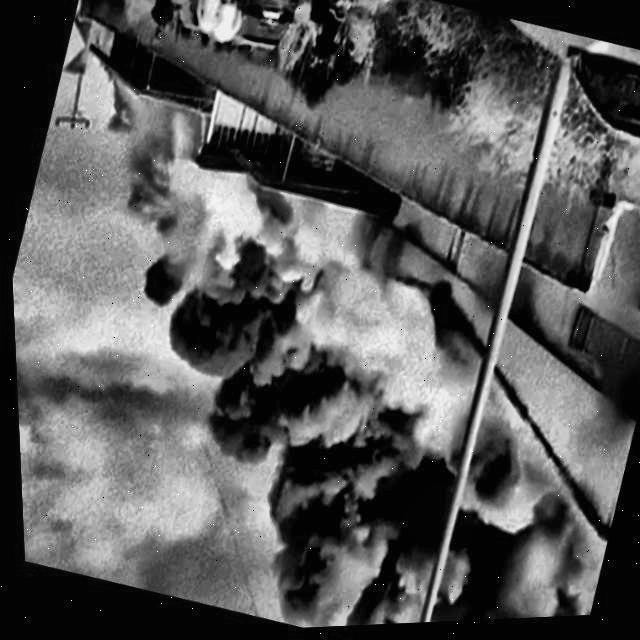Smoke: (3, 66, 640, 640)
